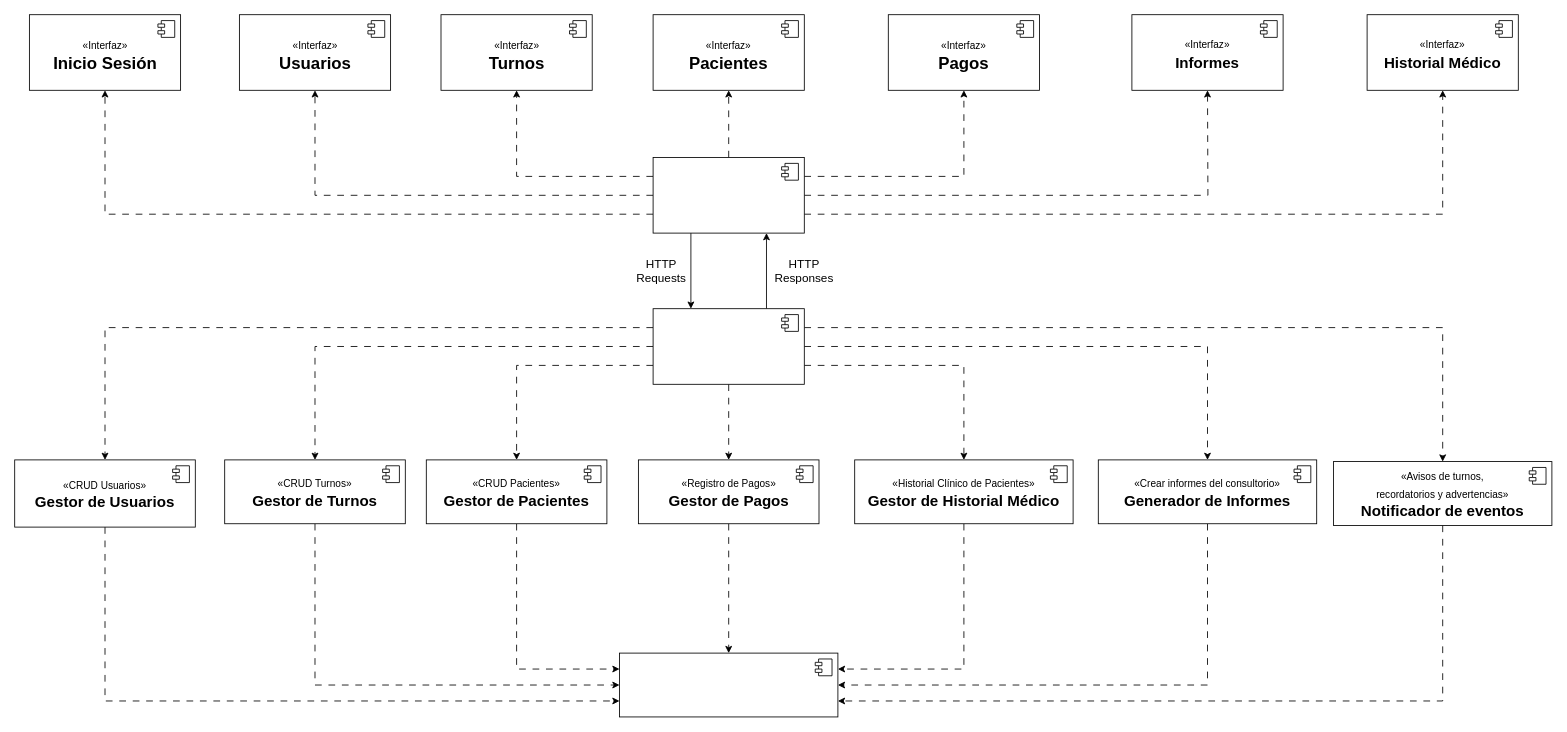
The diagram is 1567 pixels wide and 732 high, and some of its shapes have lost their labels. The shapes that lost their labels are listed below. From the top down, each one's centre as x and y in pixels, then its label:
At point 728,195: "Frontend".
At point 728,346: "Backend - API".
At point 728,684: "Base de Datos SQL".
